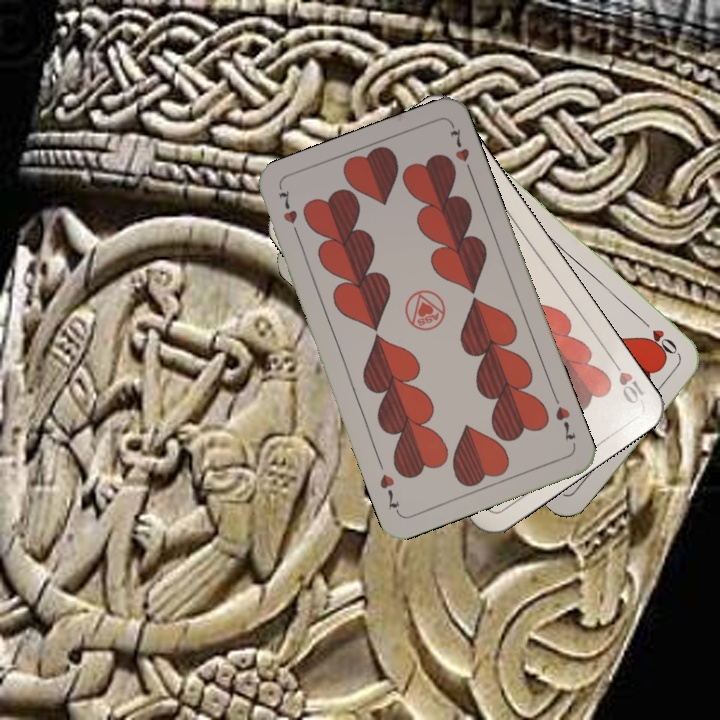H10: (605, 352, 648, 407)
H7: (274, 185, 303, 242), (549, 391, 579, 444)
HO: (636, 314, 683, 359)
